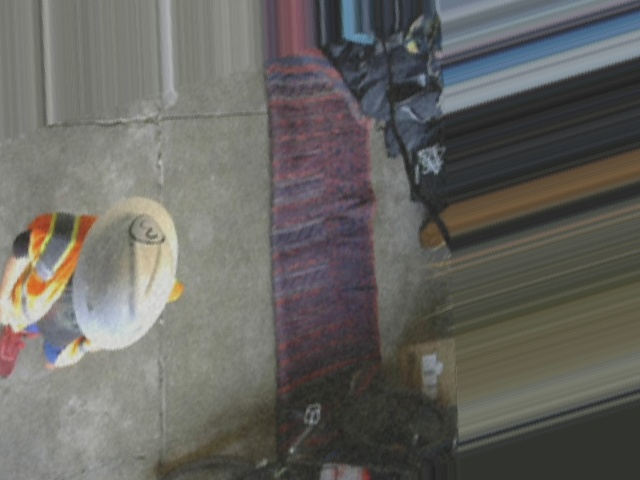three: (128, 207, 165, 253)
